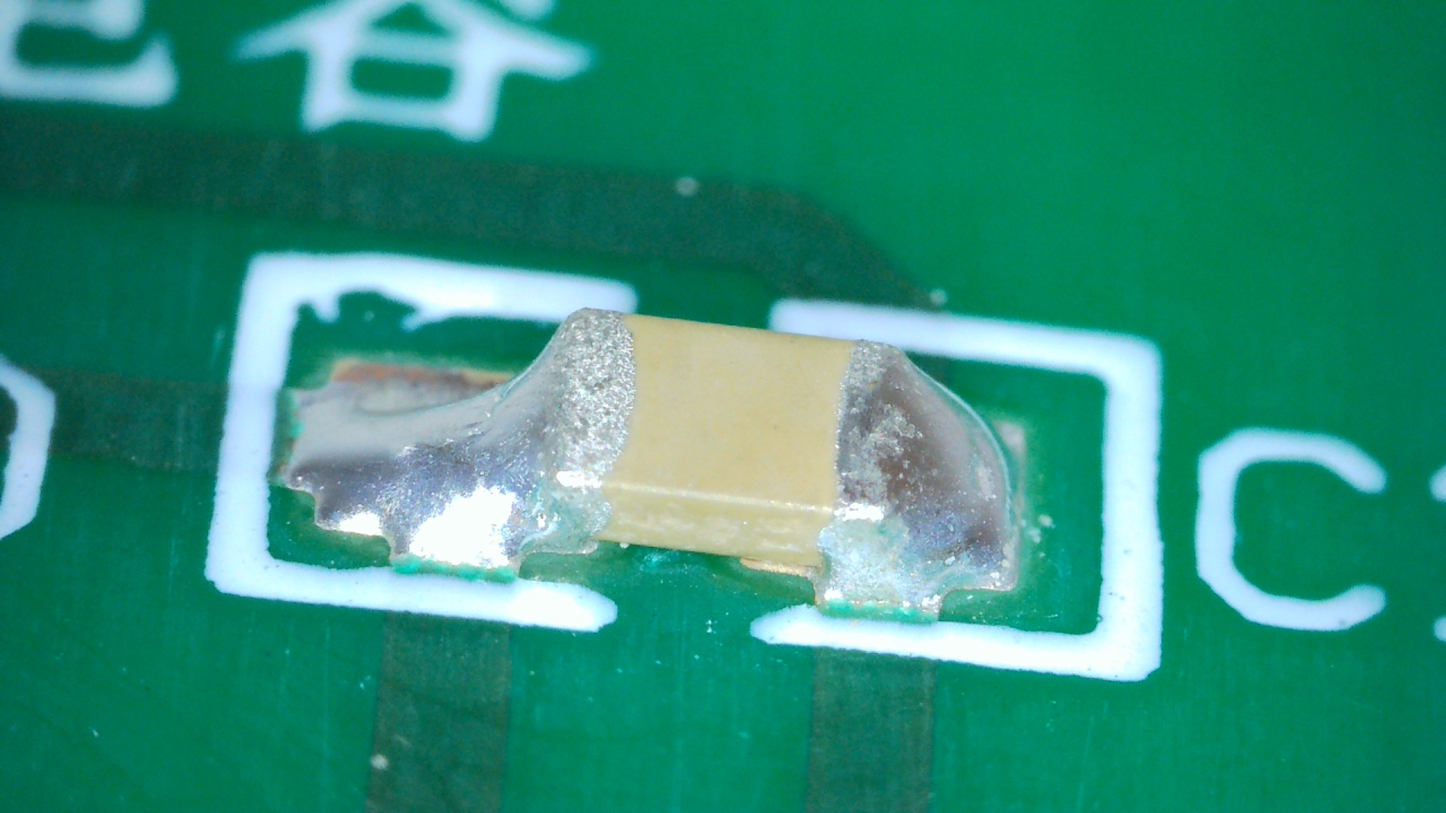NG: (808, 344, 1010, 619)
OK: (288, 309, 633, 575)
